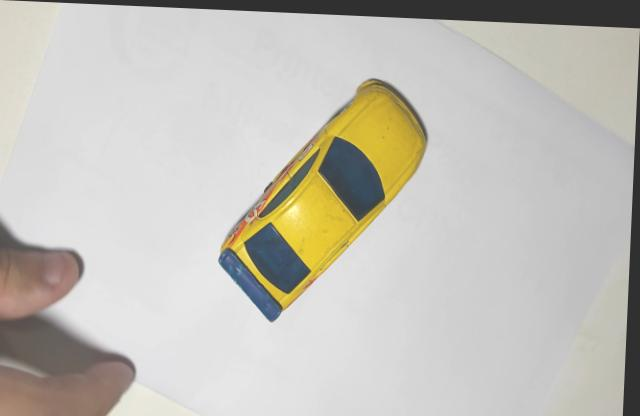02_OZSOME: (220, 73, 430, 318)
